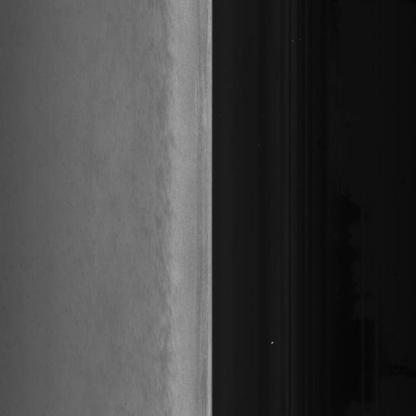silk_spot: (142, 179, 178, 290)
